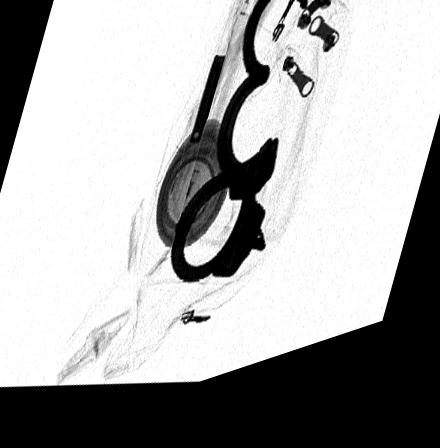HandCuffs: (170, 0, 307, 293)
